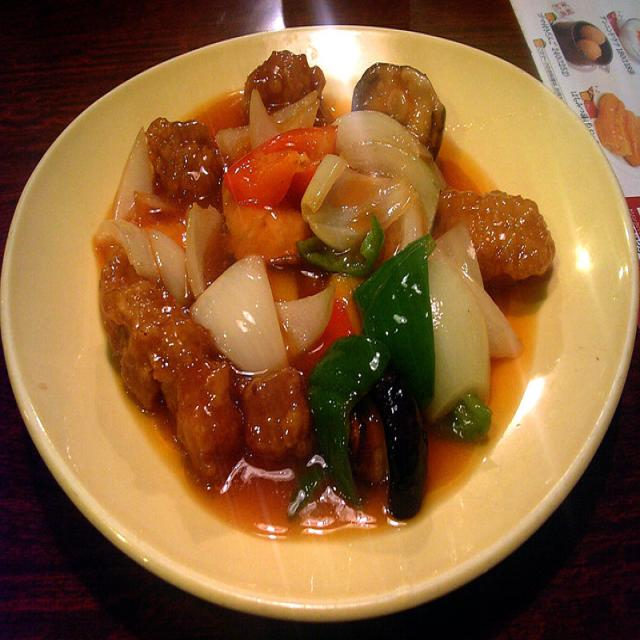猪肉菜式: (91, 55, 558, 523)
